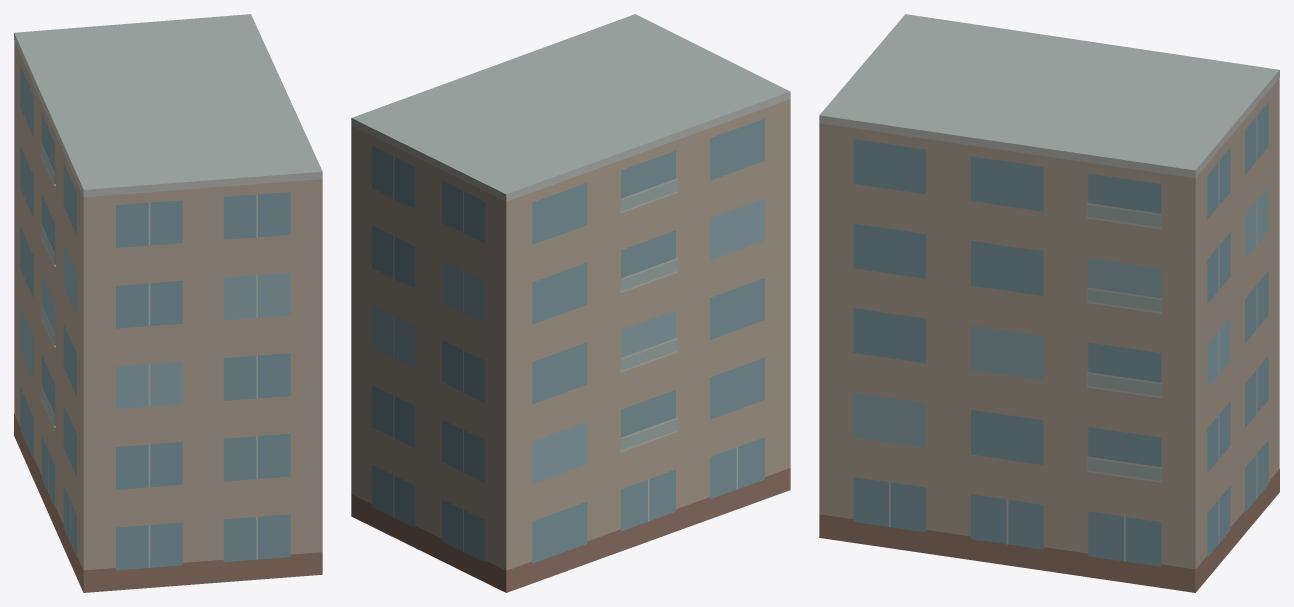
Rendered from survey-upis-32890871.glb.
3 renders of one model, left to right at view 1: azimuth 30°, elevation 25°; view 2: azimuth 150°, elevation 25°; view 3: azimuth 270°, elevation 25°, orthographic. The views are drawn at different scales.
Parts seen in each view (by area): view 1: survey-upis-32890871.tmp; view 2: survey-upis-32890871.tmp; view 3: survey-upis-32890871.tmp.
Boxes of the visible parts, bbox=[...] form: survey-upis-32890871.tmp: bbox=[14, 14, 322, 592]; survey-upis-32890871.tmp: bbox=[351, 14, 790, 592]; survey-upis-32890871.tmp: bbox=[819, 14, 1279, 592].
Size of the model in its own units: 10.41 by 13.1 by 12.95.
